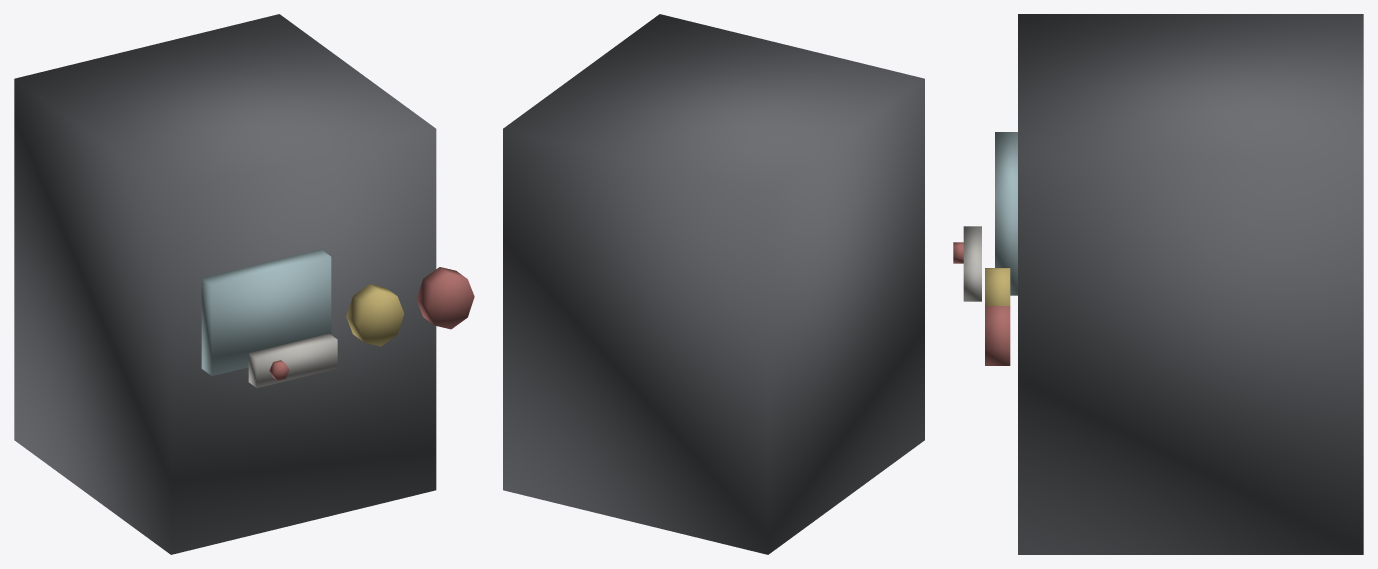
The model's file is multimeter_station__compact.glb.
3 views of the same model, side by side, from view 1: azimuth 30°, elevation 25°; view 2: azimuth 150°, elevation 25°; view 3: azimuth 270°, elevation 25° (orthographic). The views are drawn at different scales.
Visible parts, largest first — view 1: world; view 2: world; view 3: world.
Boxes of the visible parts, x1,y1,x2,y2 form: world: (14,14,474,554); world: (503,14,924,554); world: (953,14,1363,554).
Bounding box in the file's own units: 0.3108 × 0.372 × 0.347.
